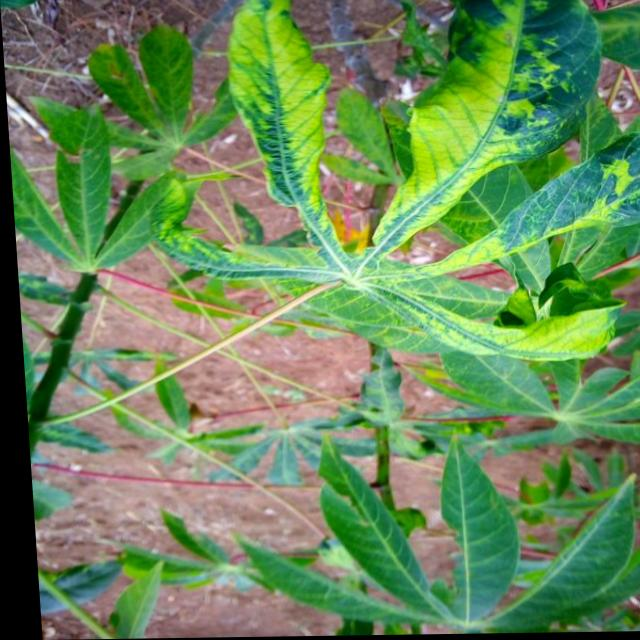Mosaico: (167, 22, 632, 364)
